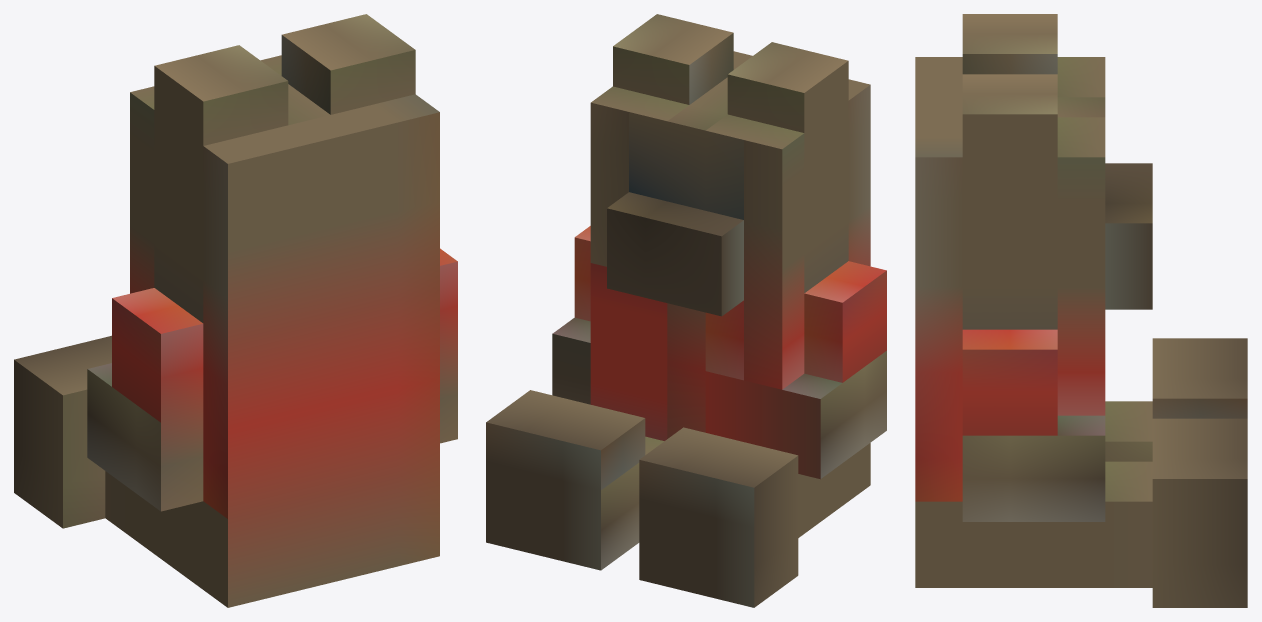
Rendered from TeddyBearDarkBrownWithRedShirt_01.fbx.
The picture shows the model from 3 angles, left to right: view 1: azimuth 30°, elevation 25°; view 2: azimuth 150°, elevation 25°; view 3: azimuth 270°, elevation 25°; orthographic projection. The views are drawn at different scales.
Visible parts, largest first — view 1: TeddyBearDarkBrownWithRedShirt_01; view 2: TeddyBearDarkBrownWithRedShirt_01; view 3: TeddyBearDarkBrownWithRedShirt_01.
Part boxes in pixels (x1,y1,x2,y2): TeddyBearDarkBrownWithRedShirt_01: (14, 14, 457, 607); TeddyBearDarkBrownWithRedShirt_01: (486, 14, 886, 607); TeddyBearDarkBrownWithRedShirt_01: (915, 14, 1247, 607).
Size of the model in its own units: 35 by 35 by 55.
1 material, 1 textured.
